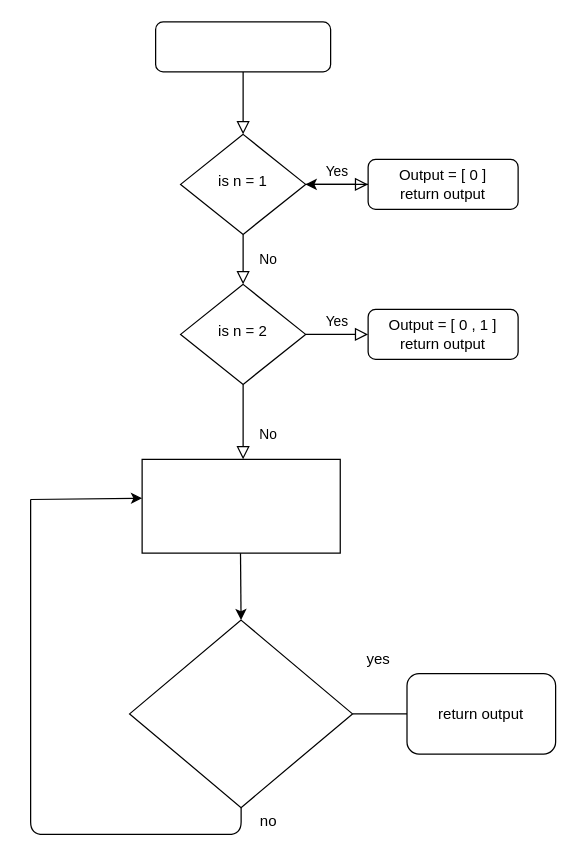
Image size: 578x858. Some labels were removed from this diagram. Here are the shapes that lost their labels. From the top down, the centre of each, then its label:
At point 242,46: "START Output = [ ]".
At point 240,505: "sum last two values in output".
At point 240,713: "Does n equal the number of items in output".
